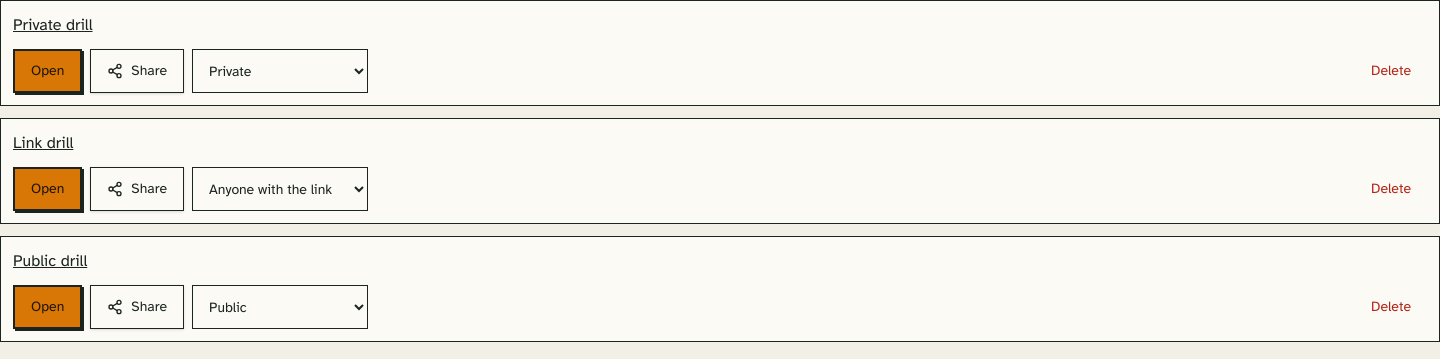
Test: MyPracticesList share action › one tap sets link-shared and copies the link on a private Practice
Expected: the link "Private drill" is shown, [13, 15, 92, 35]
Click the button with aria-label "Share Private drill" at (137,71), box [90, 49, 184, 93]
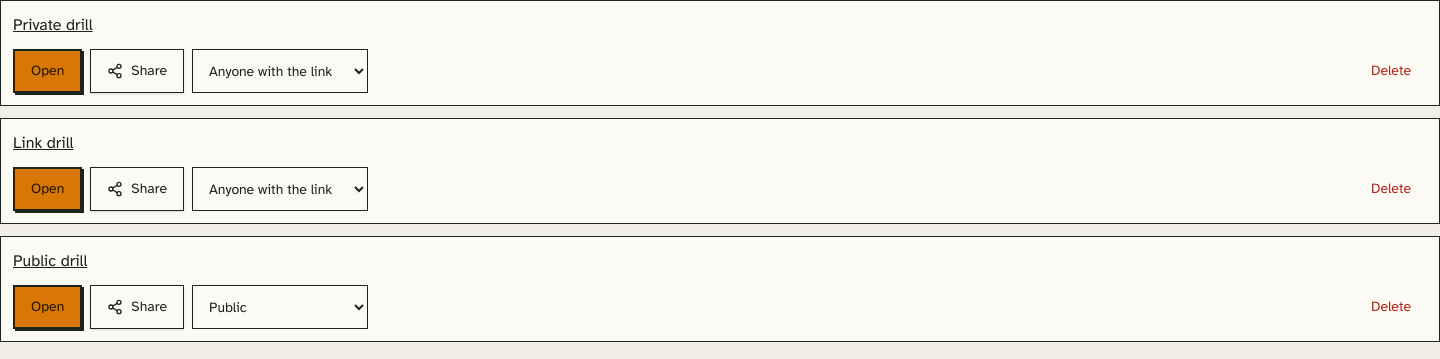
Expected: the dropdown named "Visibility of Private drill" shows "Anyone with the link", [192, 49, 368, 93]
